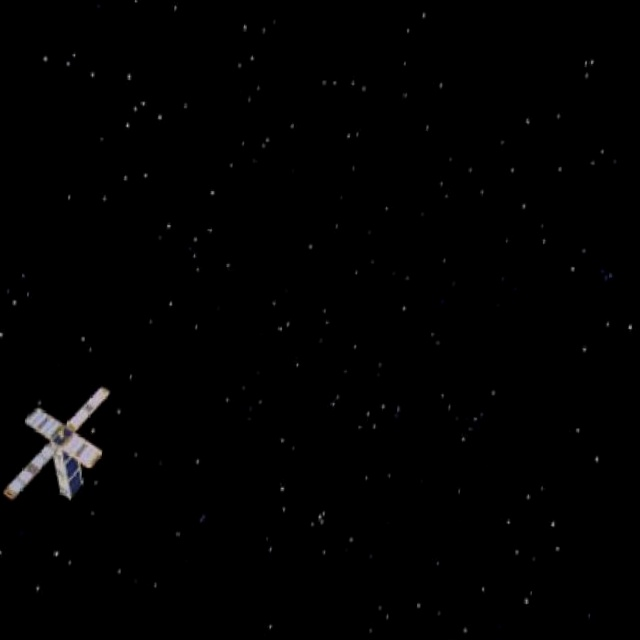medium_debris: (1, 382, 112, 521)
